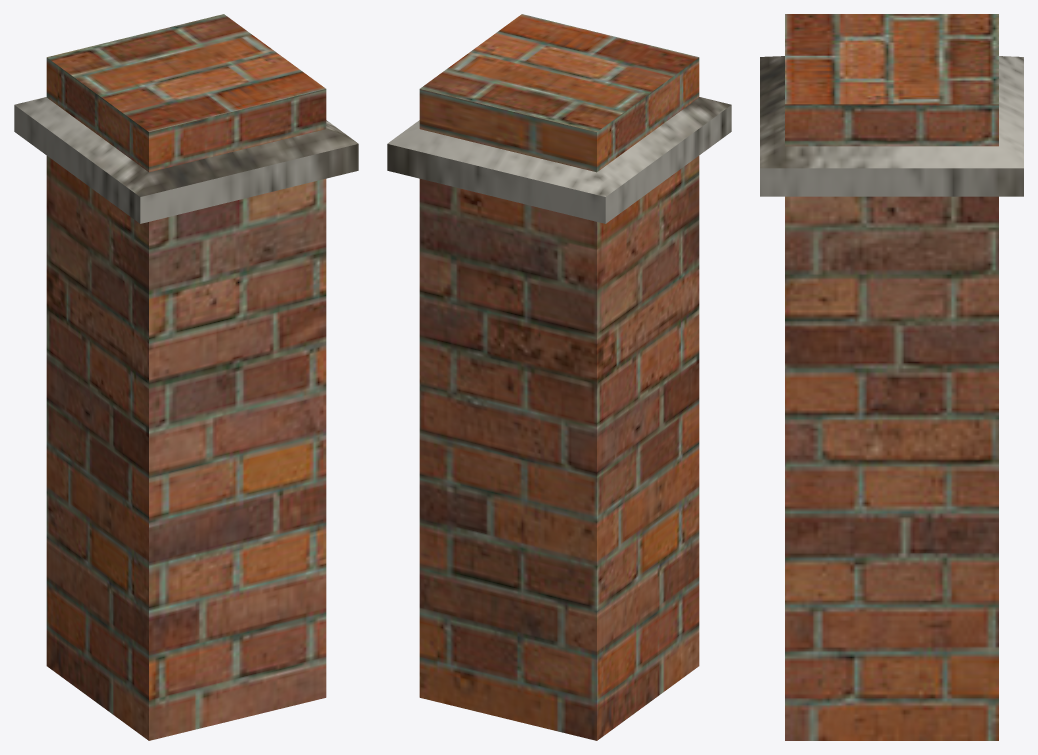
File: fbx_playground_wall_2.fbx
3 renders of one model, left to right at view 1: azimuth 30°, elevation 25°; view 2: azimuth 150°, elevation 25°; view 3: azimuth 270°, elevation 25°, orthographic. The views are drawn at different scales.
Parts seen in each view (by area): view 1: fbx_playground_wall_2; view 2: fbx_playground_wall_2; view 3: fbx_playground_wall_2.
Part boxes in pixels (bbox=[...]): fbx_playground_wall_2: bbox=[14, 14, 358, 740]; fbx_playground_wall_2: bbox=[387, 14, 731, 740]; fbx_playground_wall_2: bbox=[760, 14, 1023, 740].
Bounding box in the file's own units: 0.7935 × 2.11 × 0.7935.
1 material, 1 textured.
